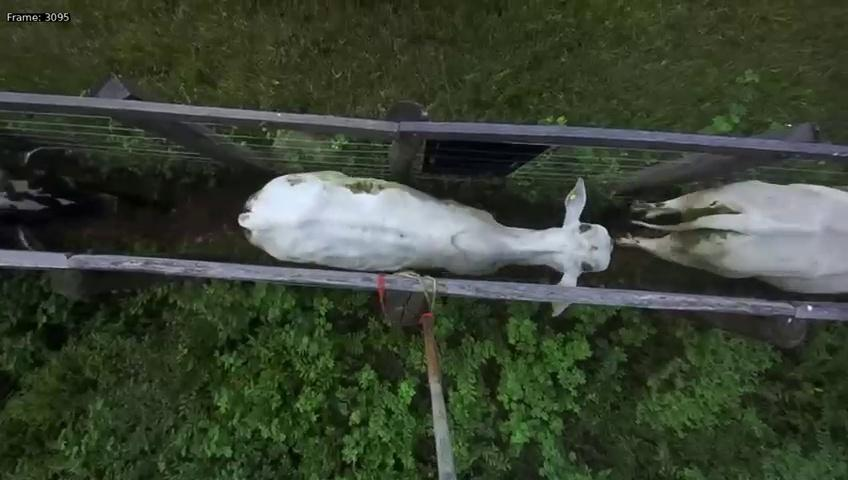cattle: (234, 169, 614, 318)
